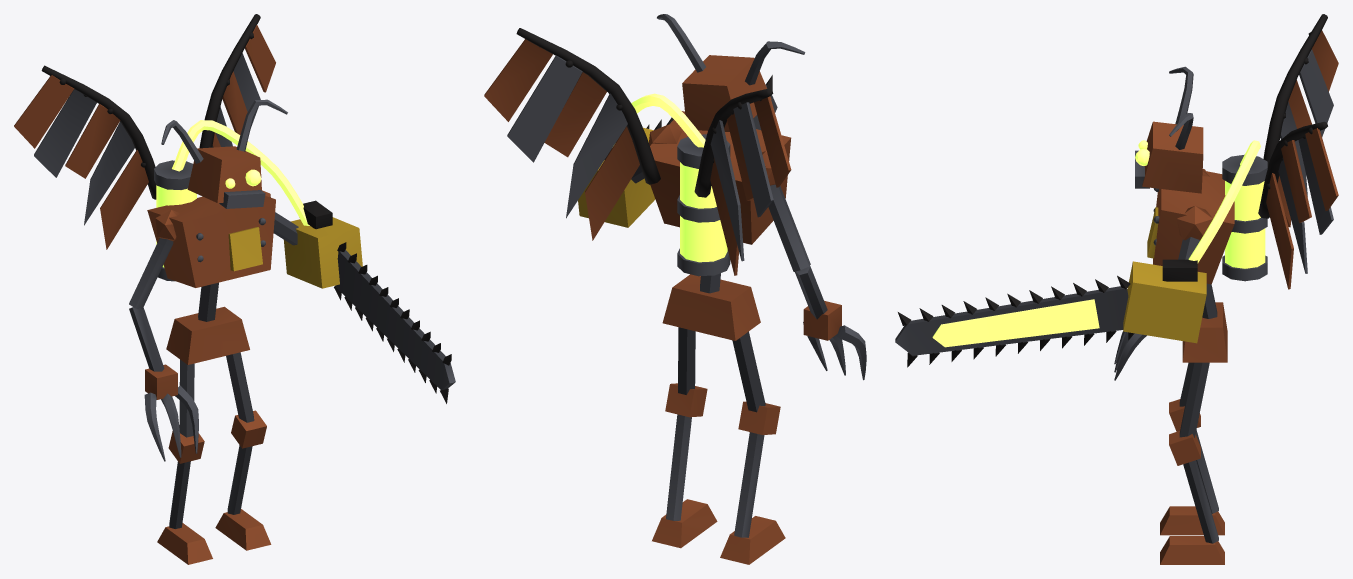
File: rust_saw.glb
3 views of the same model, side by side, from view 1: azimuth 30°, elevation 25°; view 2: azimuth 150°, elevation 25°; view 3: azimuth 270°, elevation 25° (orthographic). The views are drawn at different scales.
Visible parts, largest first — view 1: body, wing_L_a, wing_R_a; view 2: body, wing_R_a, wing_L_a; view 3: body, wing_R_a, wing_L_a.
Boxes of the visible parts, x1,y1,x2,y2 form: body: (129,99,455,564); wing_L_a: (14,65,156,249); wing_R_a: (199,14,275,148); body: (578,14,866,564); wing_R_a: (484,28,660,240); wing_L_a: (694,88,791,275); body: (895,66,1267,564); wing_R_a: (1258,121,1338,289); wing_L_a: (1263,14,1338,227).
Size of the model in its own units: 1.26 by 2.1 by 1.77.
